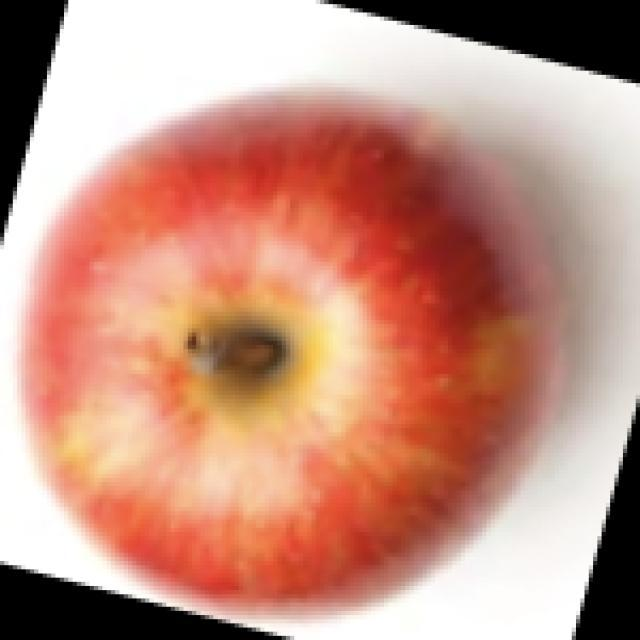Apple: (17, 84, 563, 610)
